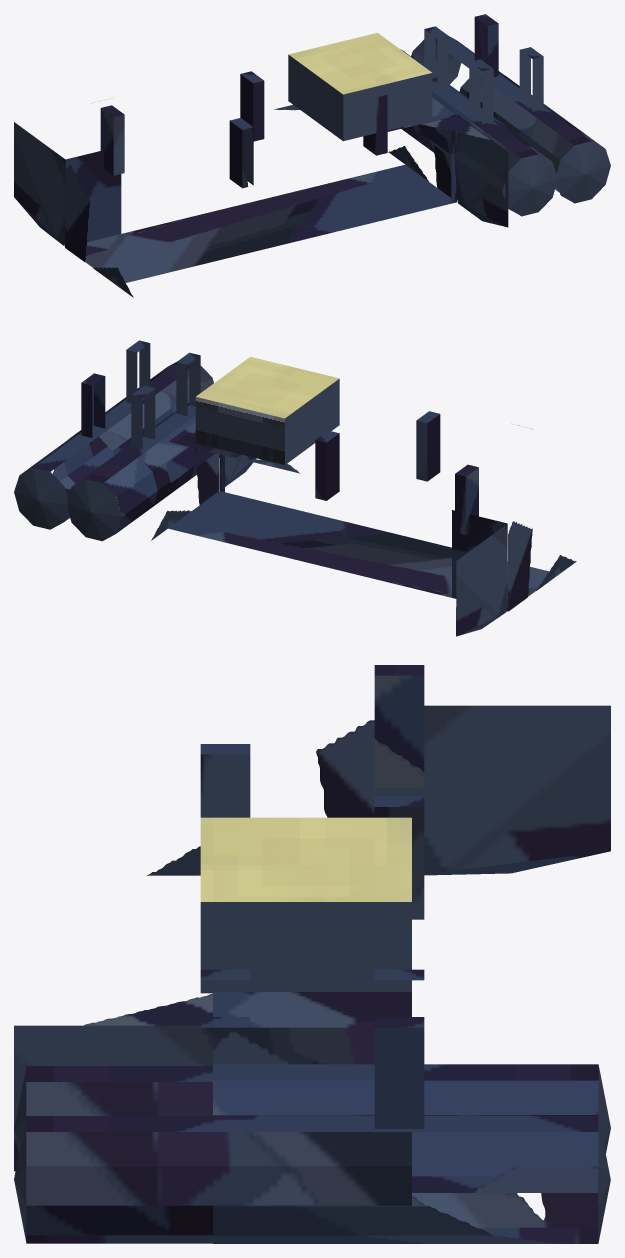
File: df11g_tank.obj
The picture shows the model from 3 angles, top to bottom: view 1: azimuth 30°, elevation 25°; view 2: azimuth 150°, elevation 25°; view 3: azimuth 270°, elevation 25°; orthographic projection. The views are drawn at different scales.
Parts seen in each view (by area): view 1: cube; view 2: cube; view 3: cube.
Part boxes in pixels (x1=…): cube: x1=14, y1=14, x2=610, y2=297; cube: x1=14, y1=340, x2=576, y2=636; cube: x1=14, y1=665, x2=610, y2=1243.
Bounding box in the file's own units: 5 × 1.49 × 3.
